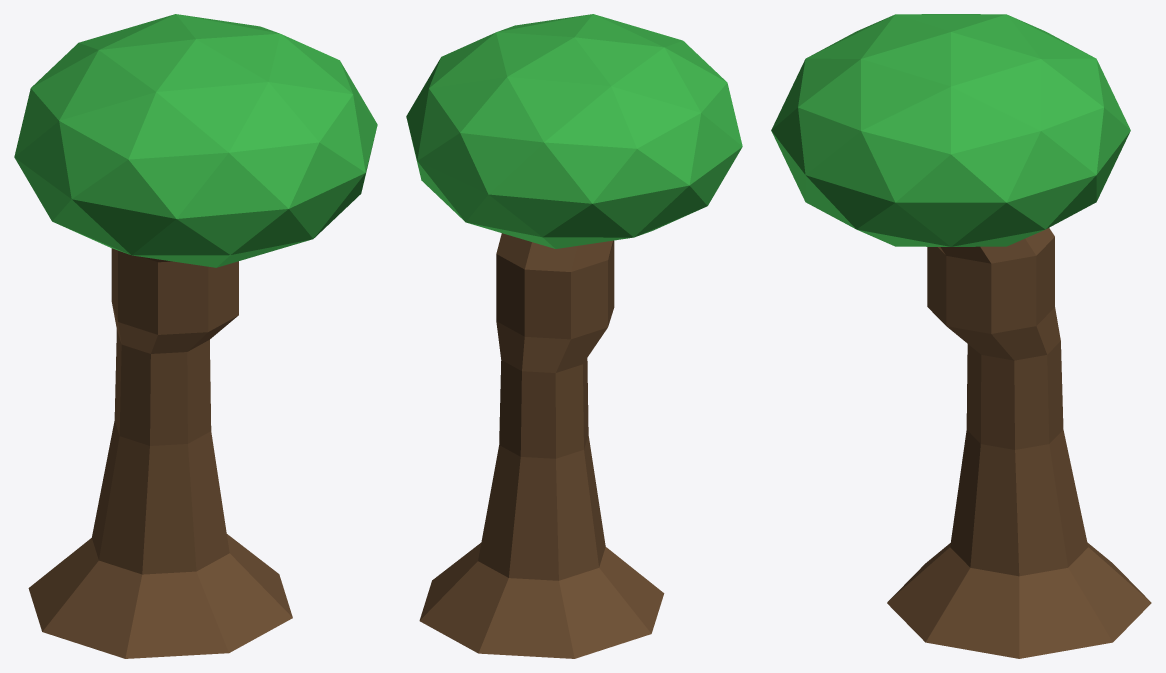
File: Tree1.fbx
3 renders of one model, left to right at view 1: azimuth 30°, elevation 25°; view 2: azimuth 150°, elevation 25°; view 3: azimuth 270°, elevation 25°, orthographic. The views are drawn at different scales.
Visible parts, largest first — view 1: Cylinder; view 2: Cylinder; view 3: Cylinder.
Part boxes in pixels (x1=…): Cylinder: x1=14, y1=14, x2=377, y2=658; Cylinder: x1=406, y1=14, x2=742, y2=658; Cylinder: x1=771, y1=14, x2=1151, y2=658.
Size of the model in its own units: 188 by 345 by 209.
